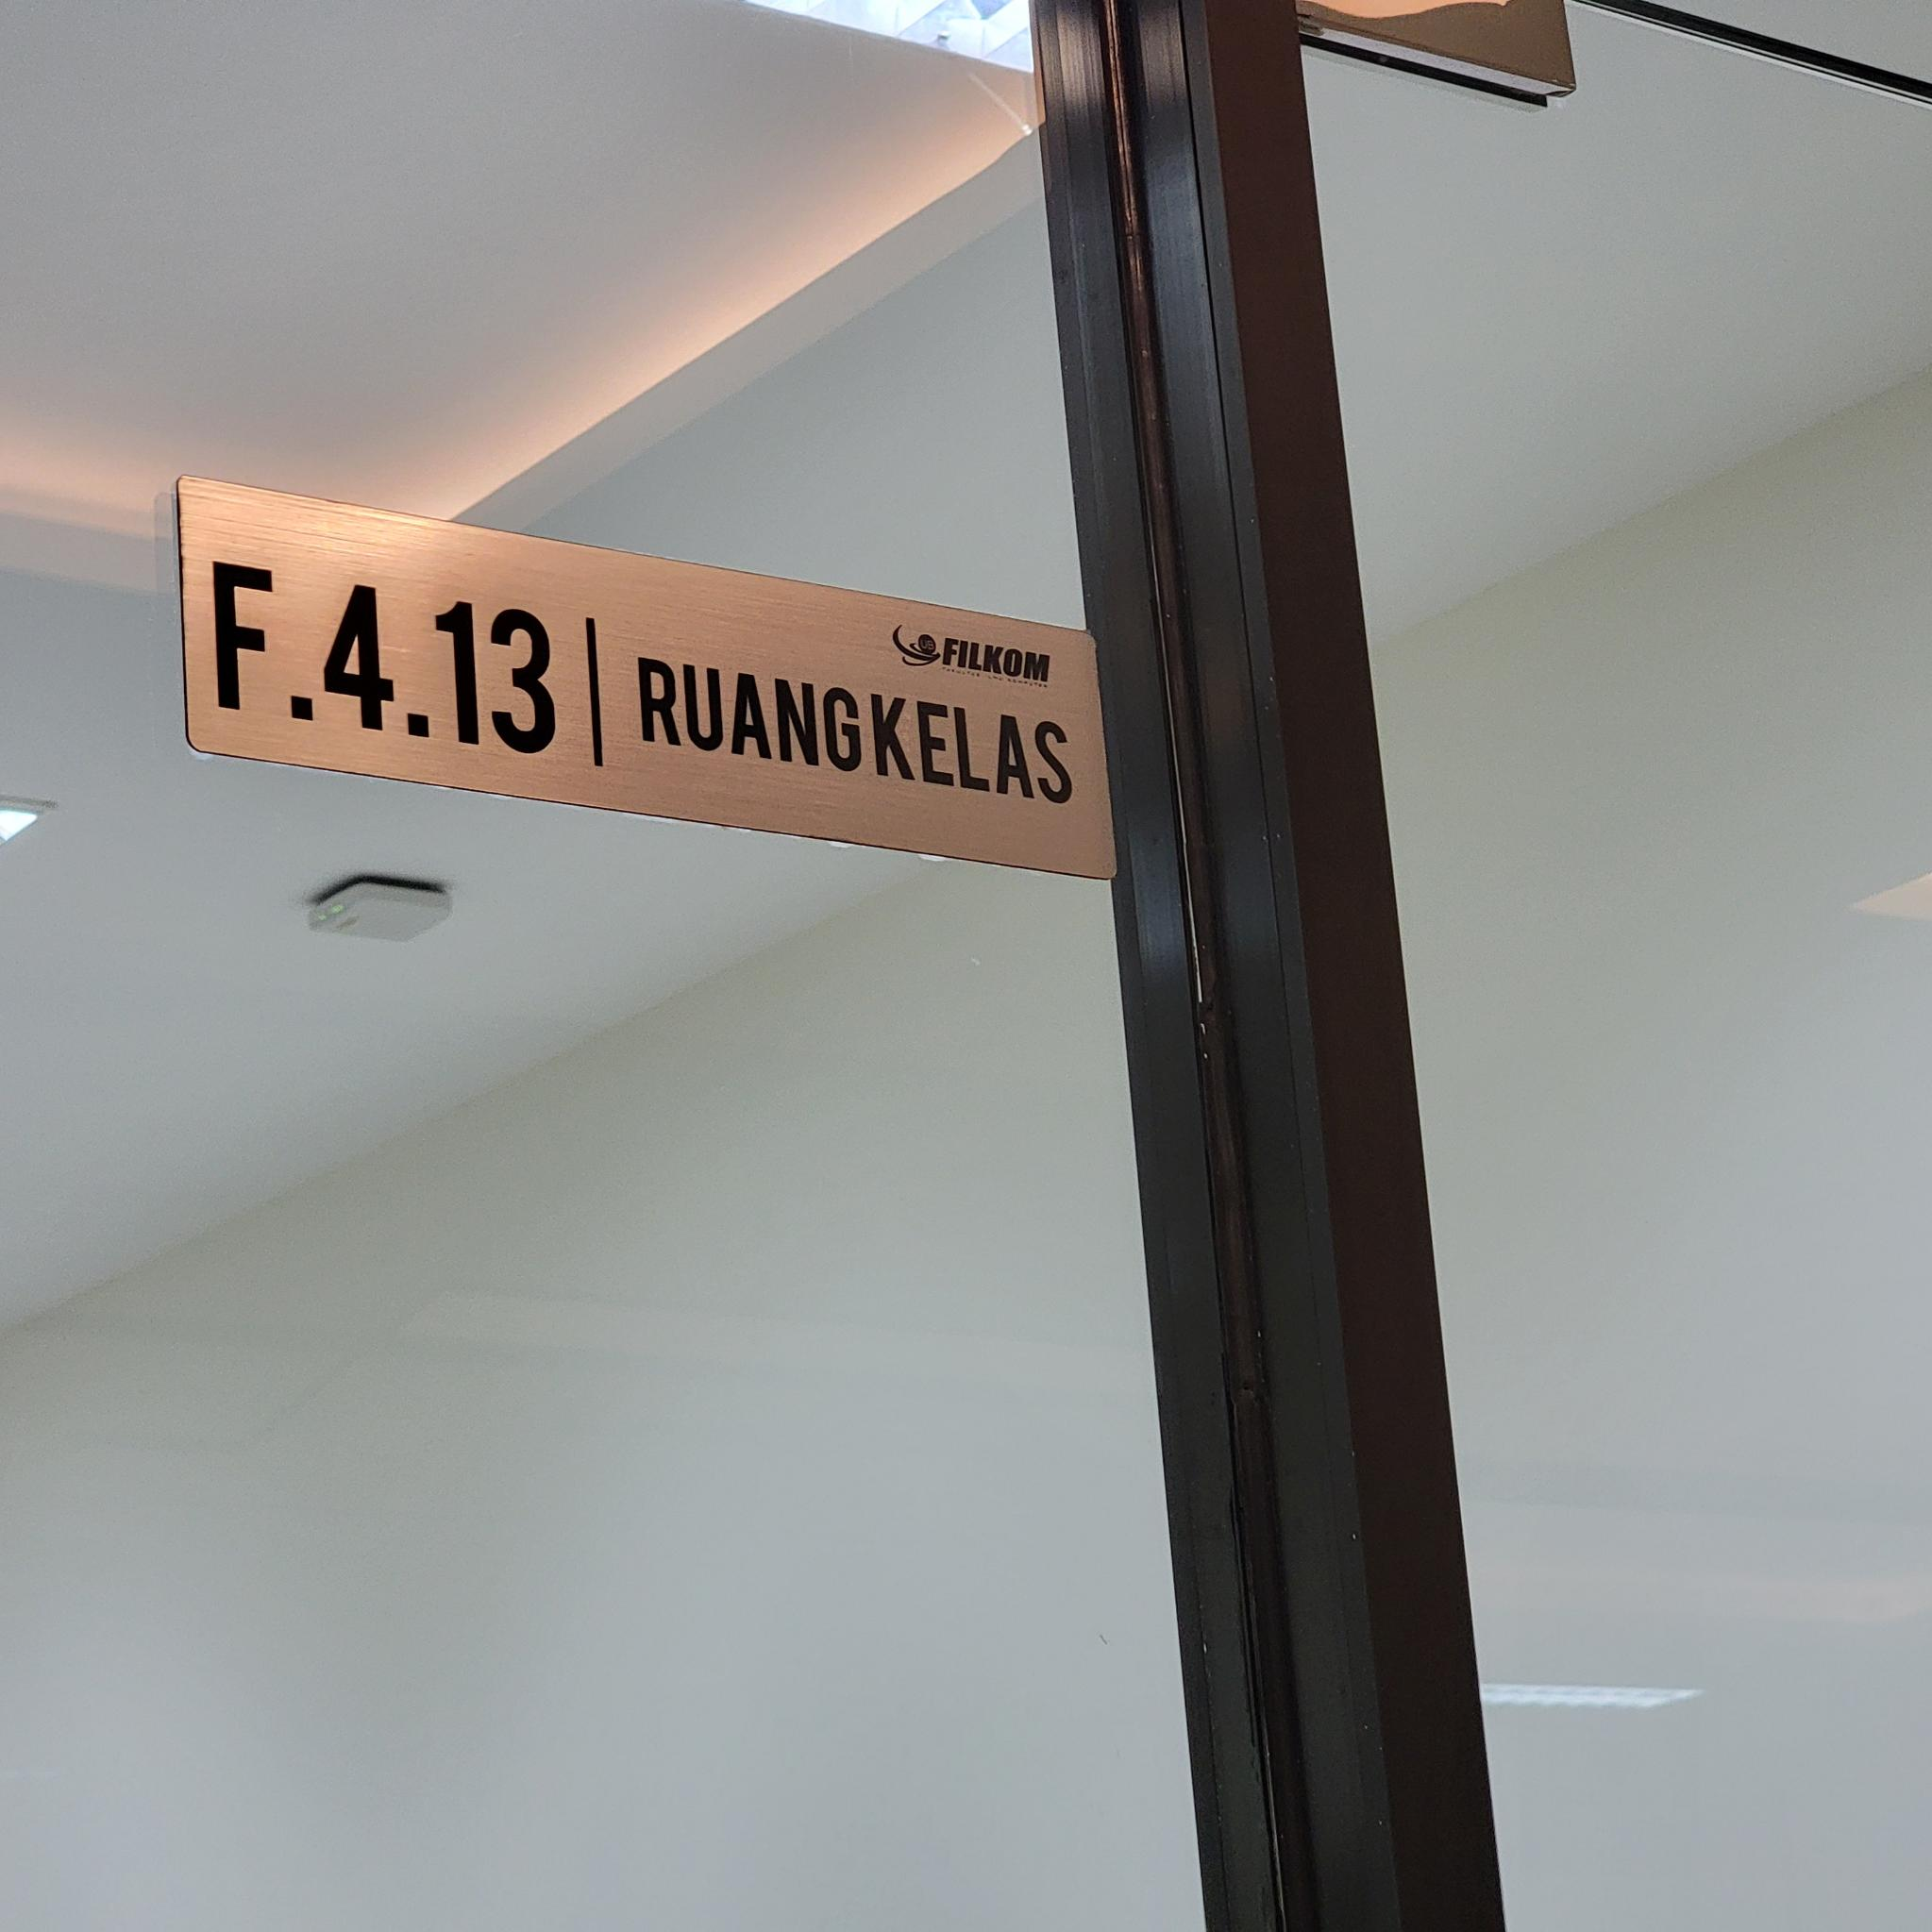plate: (173, 474, 1120, 881)
